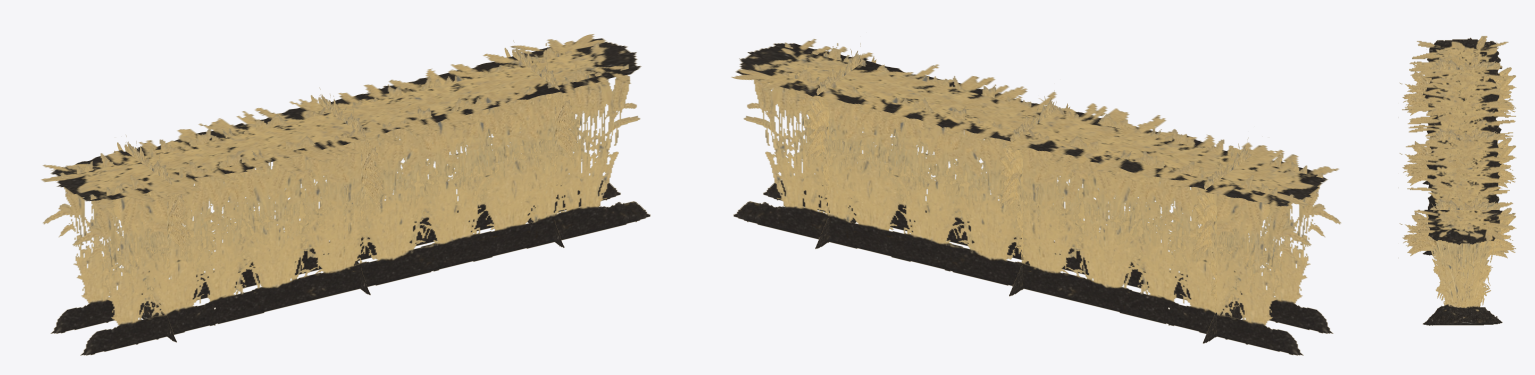
File: wheat-row-far.glb
3 views of the same model, side by side, from view 1: azimuth 30°, elevation 25°; view 2: azimuth 150°, elevation 25°; view 3: azimuth 270°, elevation 25° (orthographic). The views are drawn at different scales.
Parts seen in each view (by area): view 1: cards; view 2: cards; view 3: cards.
Boxes of the visible parts, box(x1,y1,x2,y2) form: cards: box(41, 34, 650, 355); cards: box(731, 39, 1340, 355); cards: box(1399, 36, 1516, 325).
Bounding box in the file's own units: 3.15 × 0.95 × 0.7758.
Materials: 1 (1 with a texture image).
